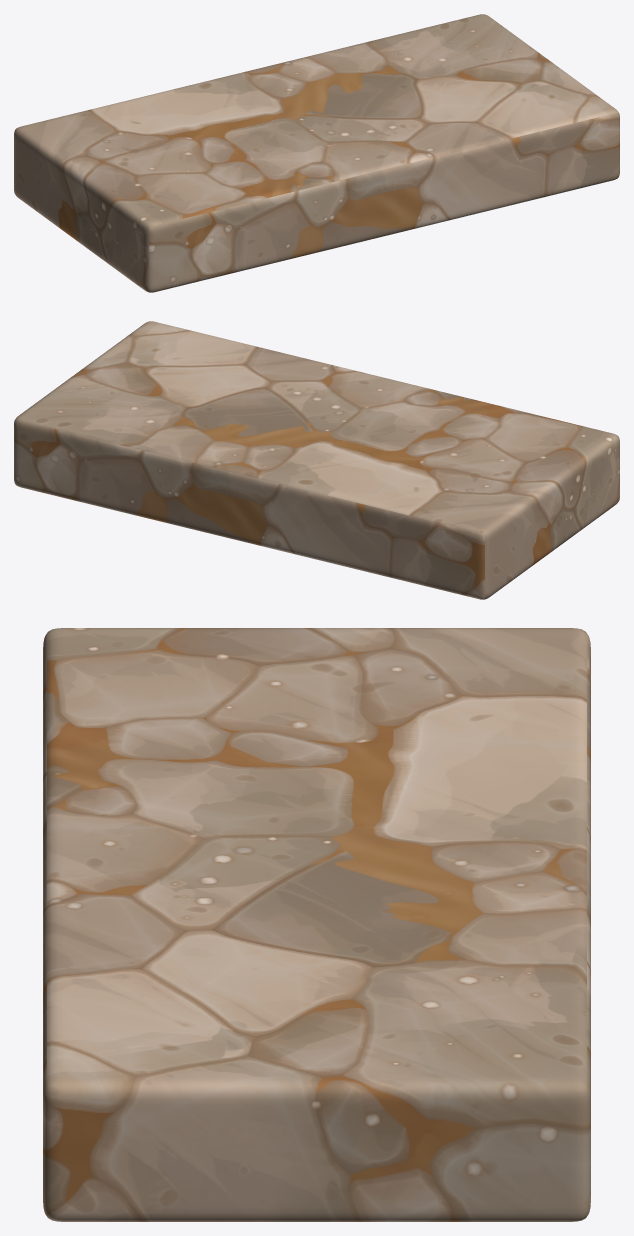
File: Base Course.fbx
3 renders of one model, top to bottom at view 1: azimuth 30°, elevation 25°; view 2: azimuth 150°, elevation 25°; view 3: azimuth 270°, elevation 25°, orthographic. The views are drawn at different scales.
Visible parts, largest first — view 1: Base Course (Big Gravel); view 2: Base Course (Big Gravel); view 3: Base Course (Big Gravel).
Part boxes in pixels (bbox=[...]): Base Course (Big Gravel): bbox=[14, 14, 619, 292]; Base Course (Big Gravel): bbox=[14, 321, 619, 599]; Base Course (Big Gravel): bbox=[43, 628, 590, 1221].
Bounding box in the file's own units: 600 × 85 × 300.
Materials: 1 (1 with a texture image).
